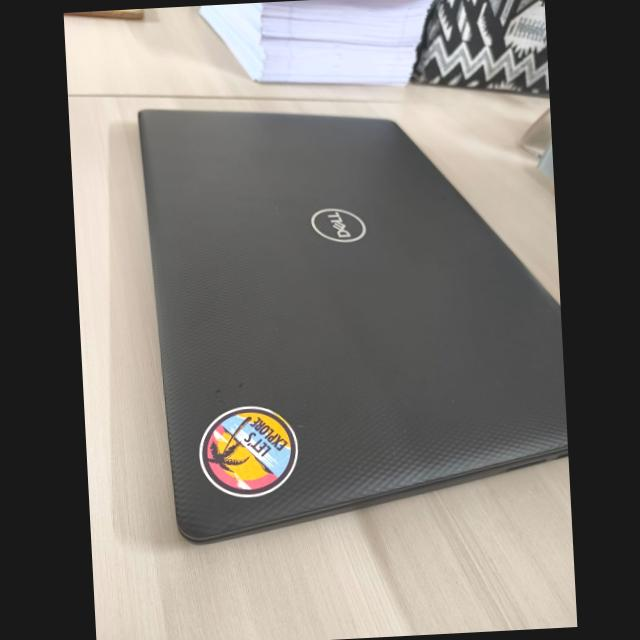laptop: (114, 50, 572, 538)
